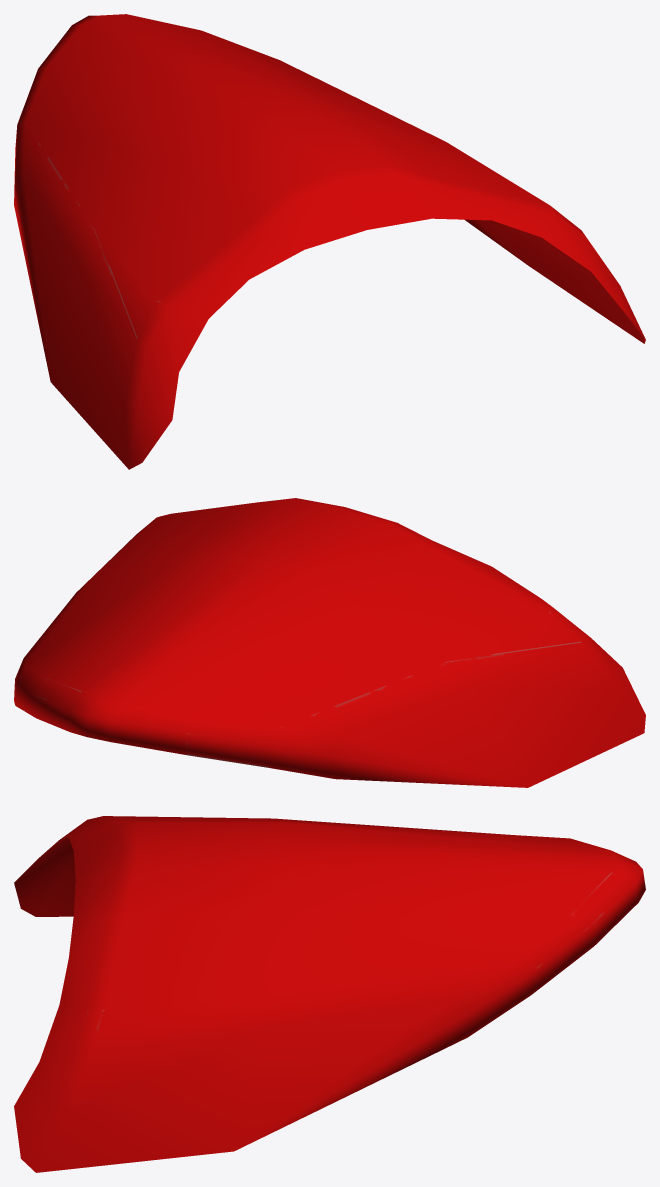
File: NoSeat.glb
3 renders of one model, top to bottom at view 1: azimuth 30°, elevation 25°; view 2: azimuth 150°, elevation 25°; view 3: azimuth 270°, elevation 25°, orthographic.
Visible parts, largest first — view 1: NoSeat; view 2: NoSeat; view 3: NoSeat.
Part boxes in pixels (x1,y1,x2,y2): NoSeat: [14, 14, 645, 469]; NoSeat: [14, 498, 645, 787]; NoSeat: [14, 816, 645, 1172].
Bounding box in the file's own units: 0.3667 × 0.1363 × 0.3828.
Materials: 1 (1 with a texture image).
